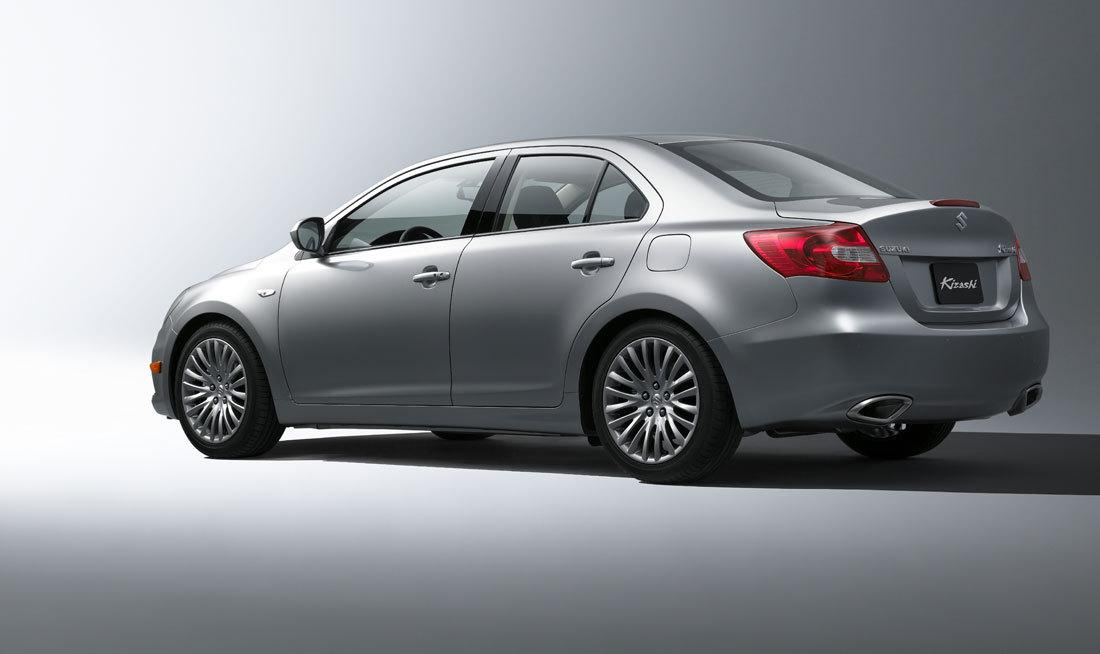car: (119, 120, 1075, 505)
